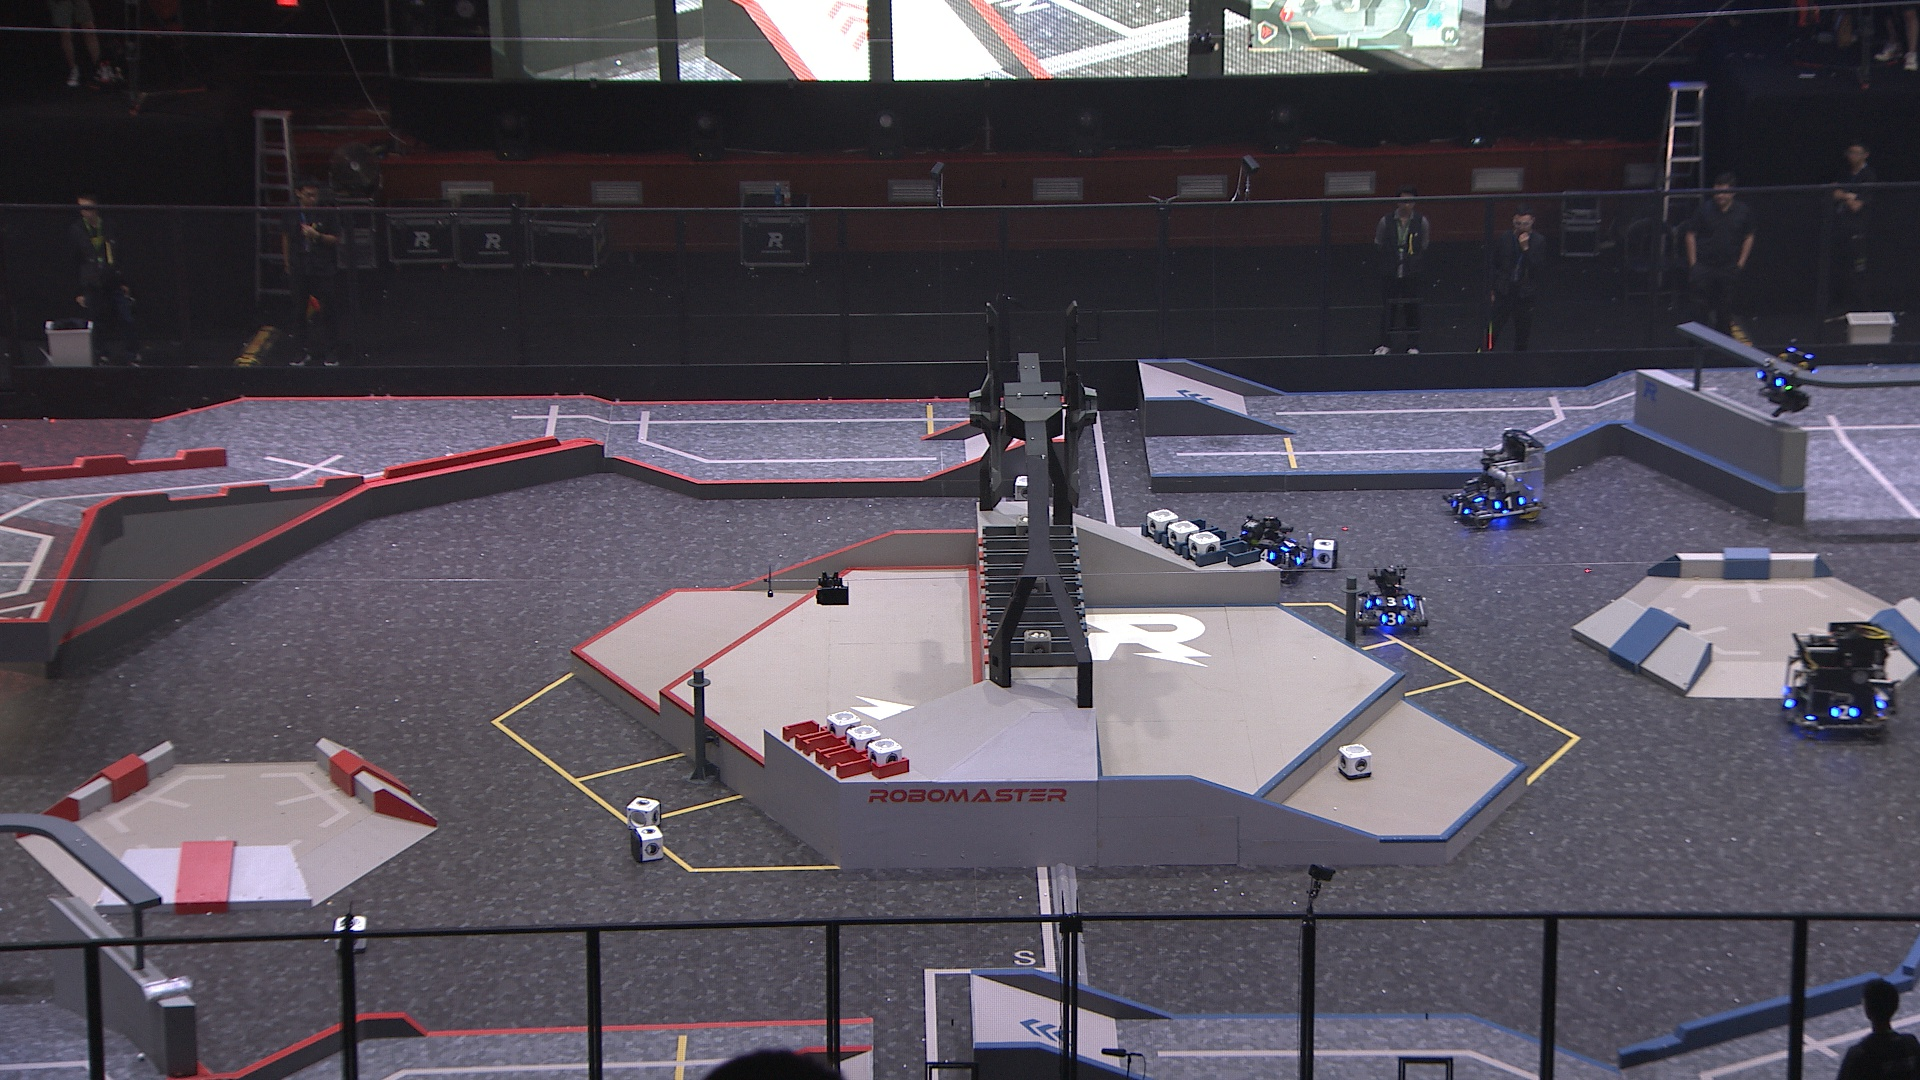armor: (1755, 367, 1787, 390), (1489, 493, 1524, 512), (1832, 700, 1861, 723), (1452, 495, 1474, 520), (1373, 593, 1408, 608), (1780, 684, 1797, 711), (1378, 609, 1404, 626), (1462, 485, 1485, 505), (1254, 546, 1278, 564), (1276, 535, 1299, 553), (1294, 546, 1311, 567), (1362, 589, 1375, 609)
car: (1778, 618, 1902, 735), (1443, 425, 1549, 531), (1230, 512, 1315, 589), (1353, 562, 1429, 633)
watcher: (1749, 335, 1816, 417)
